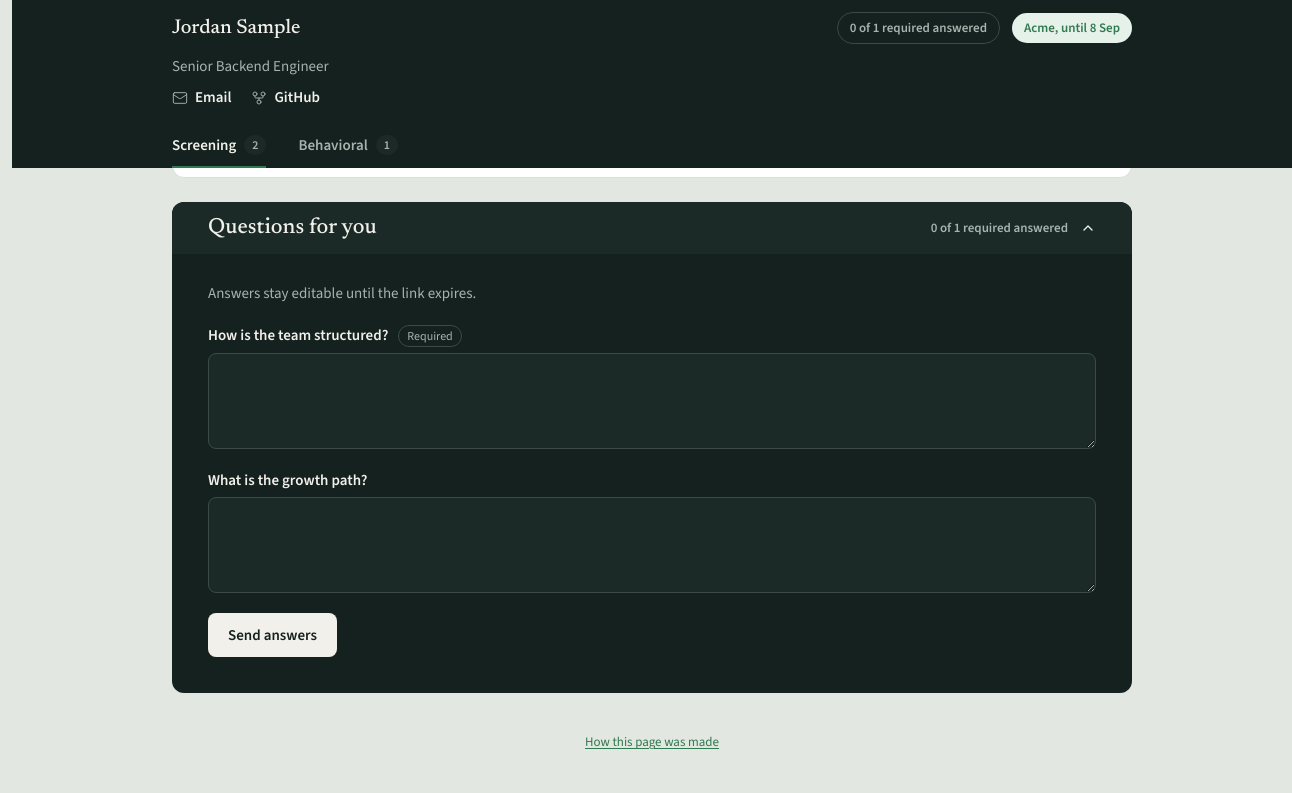
Test: SessionPage › shows a generic form error on an unexpected submit failure
(page scrolled)
Check: the heading "Jordan Sample" is shown, box [172,18,300,38]
Type "x" into the text box labelled "How is the team structured? Required" at (652, 401), box [208,353,1096,449]
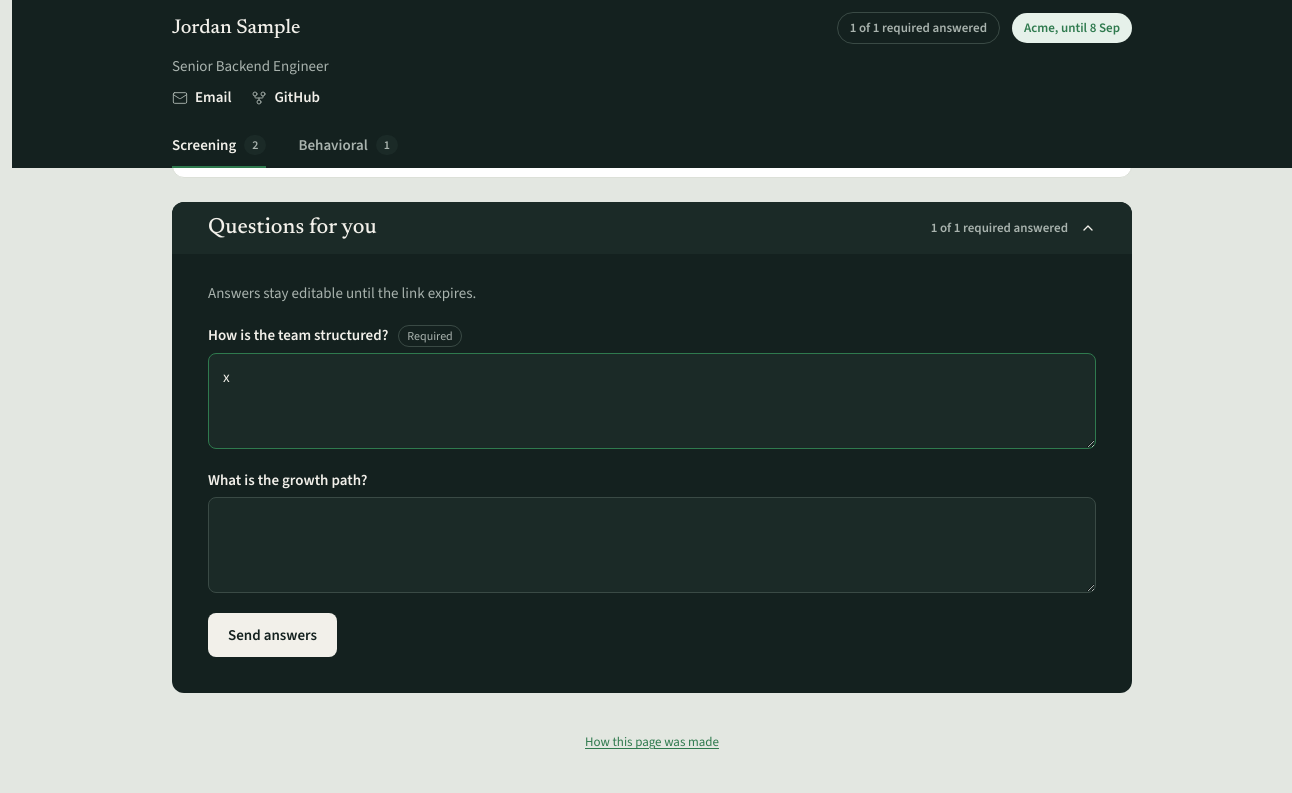
Click the button "Send answers" at (272, 635), box [208,613,337,657]
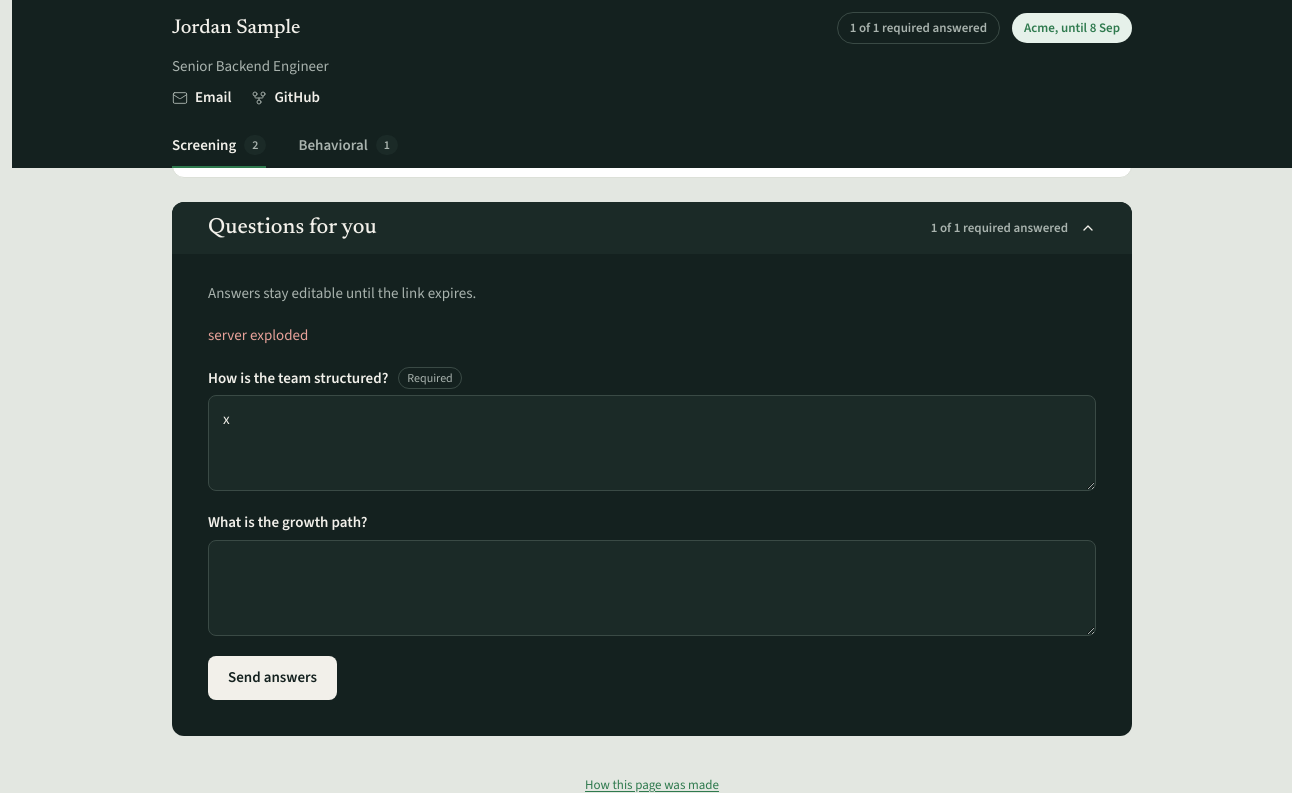
Check: the text "server exploded" is shown, box [208,325,308,345]
